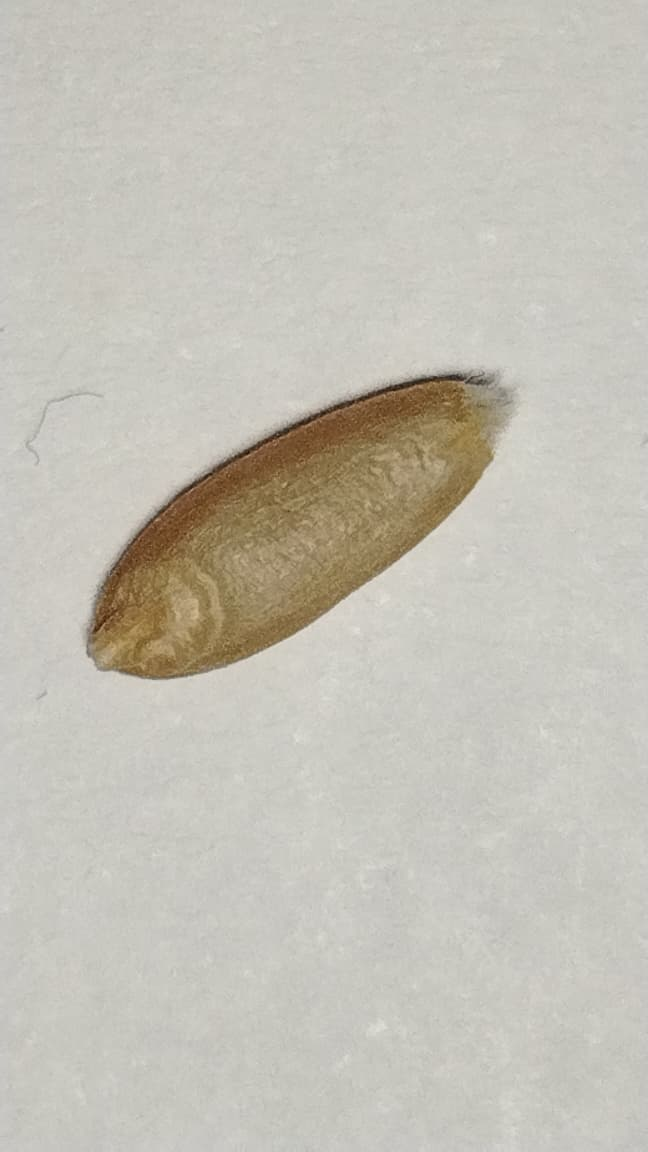healthy: (89, 375, 509, 677)
